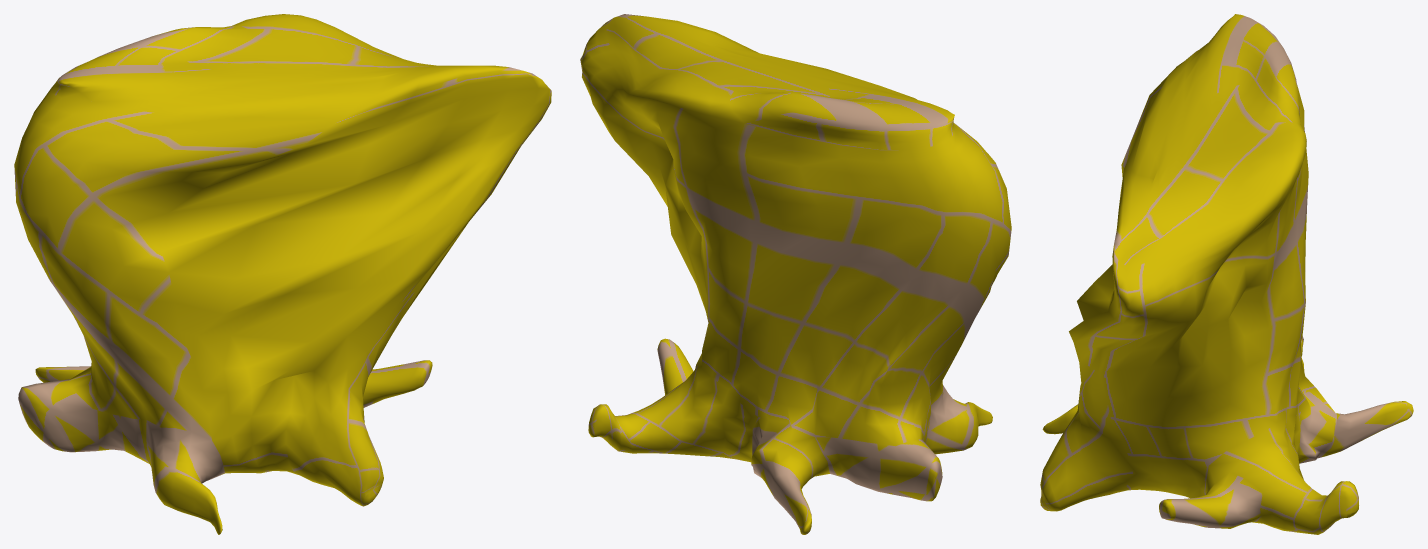
File: bad_guy.fbx
The picture shows the model from 3 angles, left to right: view 1: azimuth 30°, elevation 25°; view 2: azimuth 150°, elevation 25°; view 3: azimuth 270°, elevation 25°; orthographic projection.
Visible parts, largest first — view 1: treeStump; view 2: treeStump; view 3: treeStump.
Boxes of the visible parts, bbox=[...] form: treeStump: bbox=[14, 14, 551, 534]; treeStump: bbox=[580, 14, 1011, 534]; treeStump: bbox=[1040, 14, 1413, 534].
Bounding box in the file's own units: 252 × 205 × 173.
